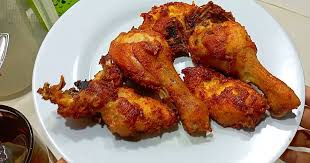Ayam goreng: (188, 3, 301, 117), (109, 28, 210, 136), (36, 69, 179, 140), (184, 64, 266, 129), (103, 66, 105, 74)
